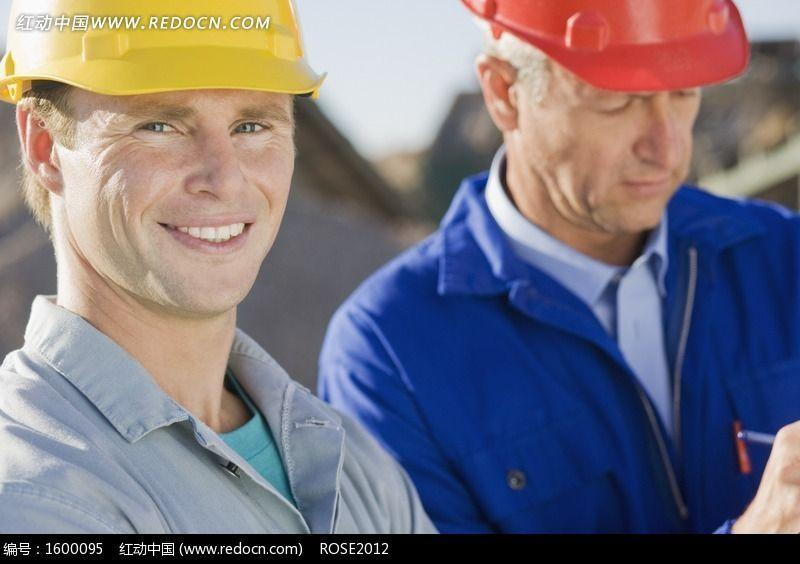helmet: (1, 1, 324, 105), (464, 2, 755, 95)
